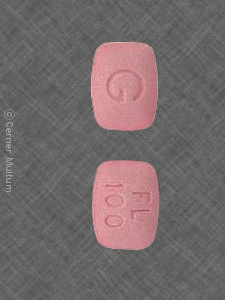Square: (93, 160, 160, 251), (92, 42, 159, 132)
